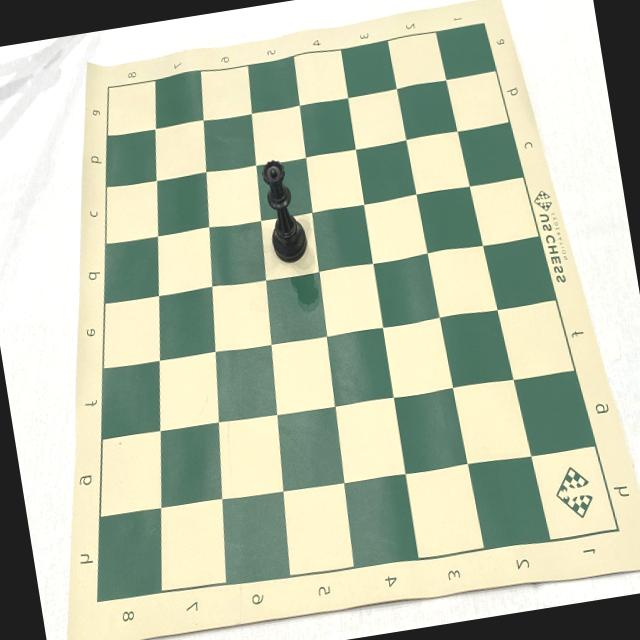black-queen: (258, 156, 311, 268)
